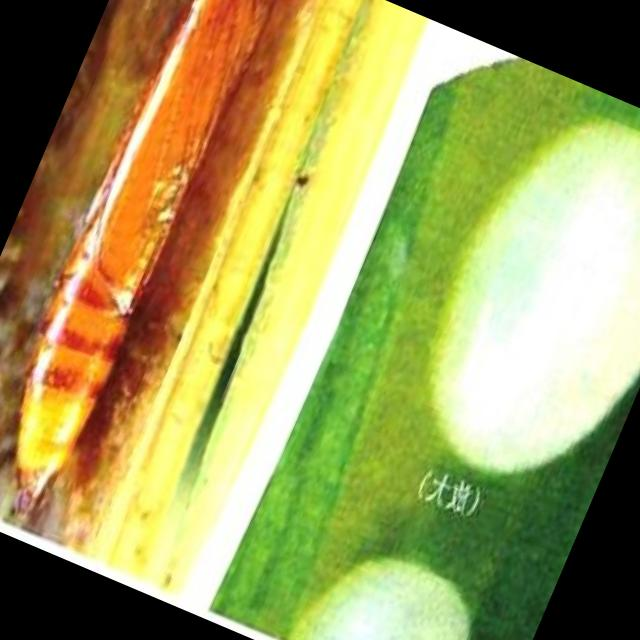whorl-maggot: (0, 0, 303, 554)
